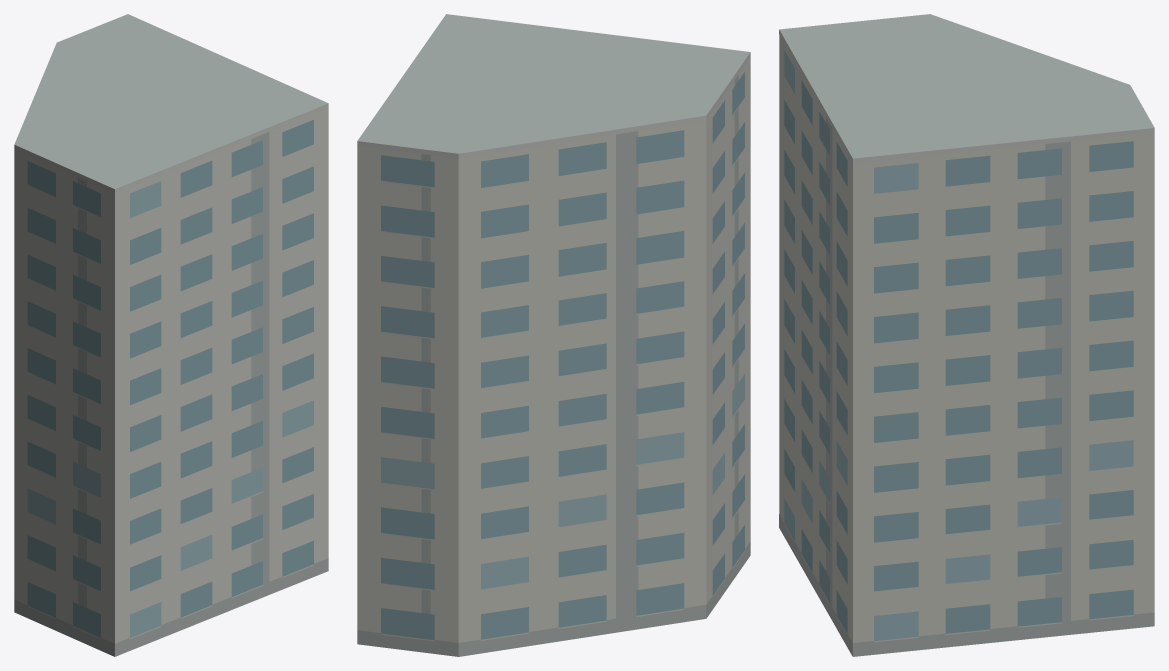
Rendered from residential-ce15547f-bfbe-41b6-ba53-8de95c9aef22.glb.
The picture shows the model from 3 angles, left to right: view 1: azimuth 30°, elevation 25°; view 2: azimuth 150°, elevation 25°; view 3: azimuth 270°, elevation 25°; orthographic projection. The views are drawn at different scales.
Parts seen in each view (by area): view 1: residential-ce15547f-bfbe-41b6-ba53-8de95c9aef22.tmp; view 2: residential-ce15547f-bfbe-41b6-ba53-8de95c9aef22.tmp; view 3: residential-ce15547f-bfbe-41b6-ba53-8de95c9aef22.tmp.
Part boxes in pixels (bbox=[...]): residential-ce15547f-bfbe-41b6-ba53-8de95c9aef22.tmp: bbox=[14, 14, 328, 656]; residential-ce15547f-bfbe-41b6-ba53-8de95c9aef22.tmp: bbox=[357, 14, 750, 656]; residential-ce15547f-bfbe-41b6-ba53-8de95c9aef22.tmp: bbox=[779, 14, 1154, 656].
Size of the model in its own units: 15.57 by 25 by 17.09.
